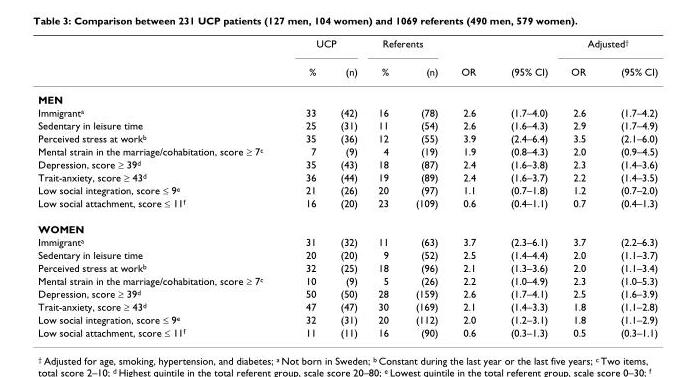table: (37, 37, 657, 338)
table column: (37, 37, 283, 338), (492, 37, 558, 338), (602, 37, 657, 338), (401, 37, 448, 338), (283, 37, 327, 338), (448, 37, 492, 338), (558, 37, 602, 338), (327, 37, 367, 338), (367, 37, 401, 338)
table column header: (37, 37, 657, 85)
table projected row header: (37, 85, 657, 105), (37, 215, 657, 235)
table row: (37, 57, 657, 85), (37, 37, 657, 57), (37, 85, 657, 105), (37, 195, 657, 215), (37, 215, 657, 235), (37, 105, 657, 118), (37, 118, 657, 131), (37, 143, 657, 156), (37, 156, 657, 169), (37, 169, 657, 182), (37, 182, 657, 195), (37, 235, 657, 248), (37, 260, 657, 273), (37, 273, 657, 286), (37, 286, 657, 299), (37, 299, 657, 312), (37, 312, 657, 325), (37, 325, 657, 338), (37, 131, 657, 143), (37, 248, 657, 260)
table spanning cell: (492, 37, 558, 85), (448, 37, 492, 85), (558, 37, 657, 57), (283, 37, 367, 57), (367, 37, 448, 57)
